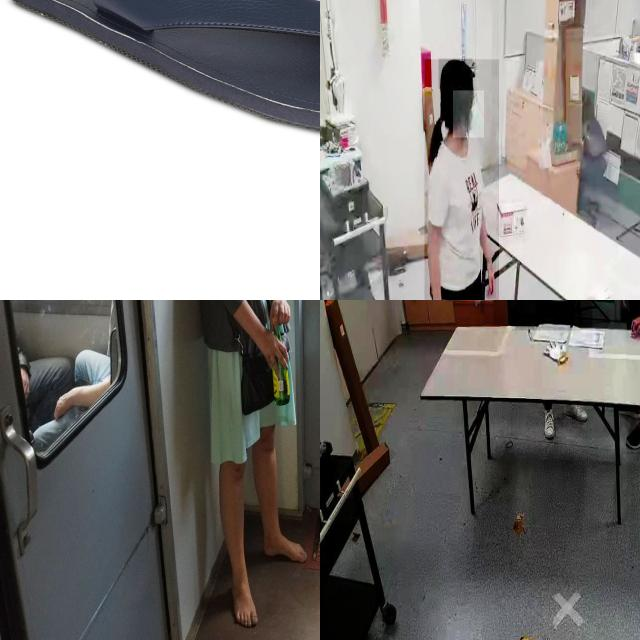Barefoots: (231, 571, 258, 627), (263, 534, 307, 563)
Sandals: (5, 0, 320, 142)
face_mask: (453, 90, 484, 138)
hand_noglove: (484, 258, 496, 300), (629, 312, 640, 336), (621, 300, 628, 309)
head_nohelmet: (439, 59, 473, 90)
person: (424, 59, 499, 300)
shoes: (540, 402, 557, 440), (565, 402, 589, 428), (624, 417, 640, 452)
